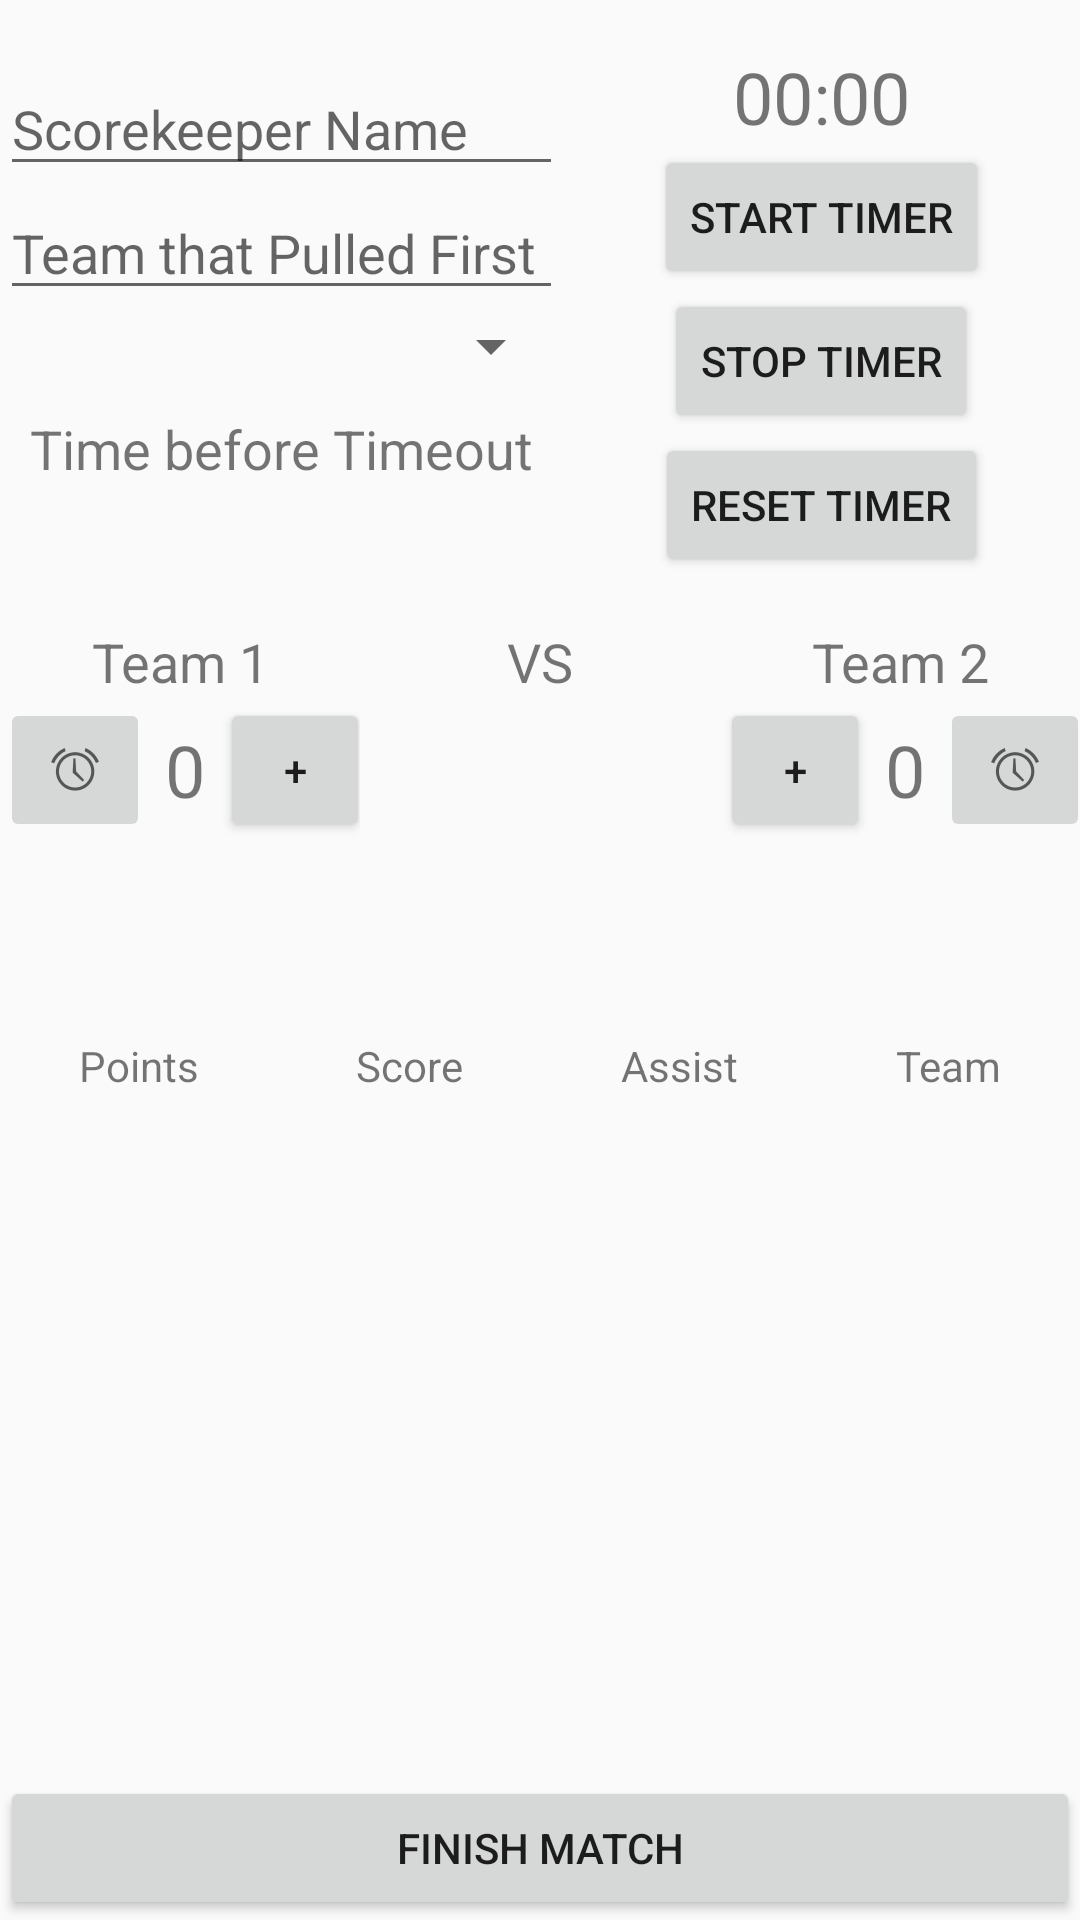

Icons on this 1080*1920 Android screen, each with the point to tap as (x,y):
lock idle alarm: (75,770), (1015,770)
